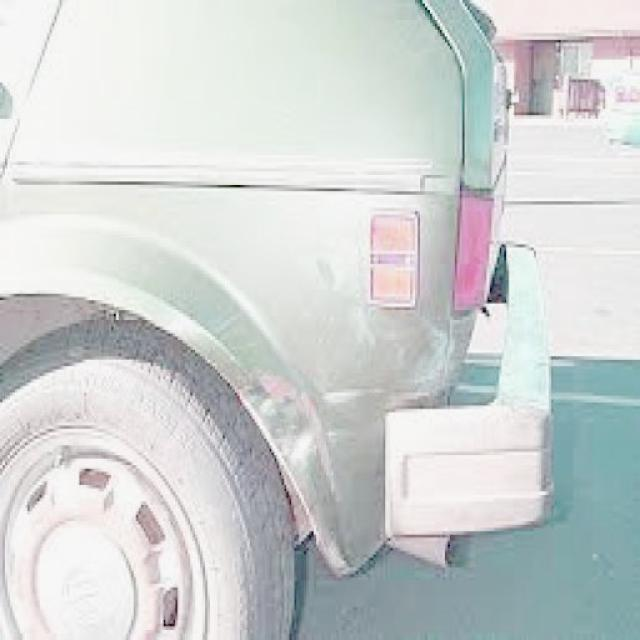car damage: (195, 242, 462, 573)
